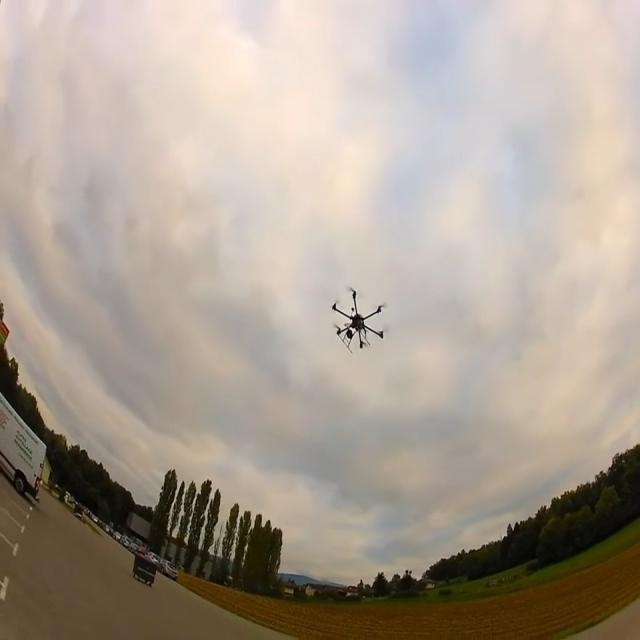drone: (332, 287, 386, 353)
